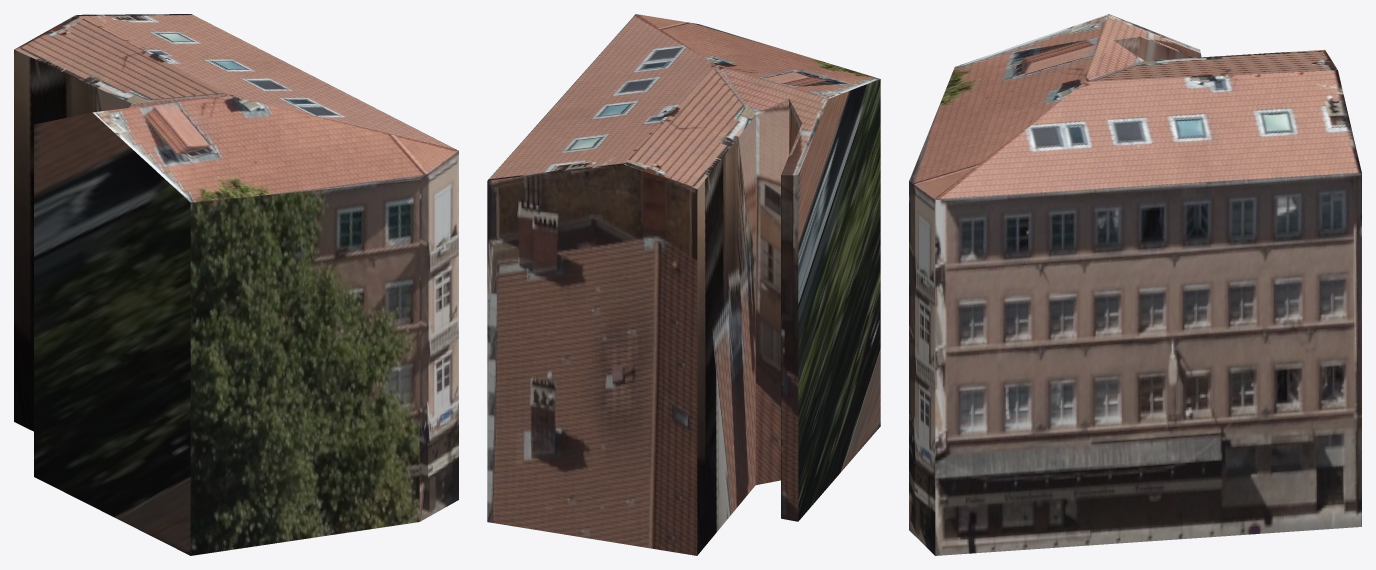
3 renders of one model, left to right at view 1: azimuth 30°, elevation 25°; view 2: azimuth 150°, elevation 25°; view 3: azimuth 270°, elevation 25°, orthographic. The views are drawn at different scales.
Visible parts, largest first — view 1: Z_UP; view 2: Z_UP; view 3: Z_UP.
Boxes of the visible parts, bbox=[...] form: Z_UP: bbox=[14, 14, 458, 555]; Z_UP: bbox=[487, 14, 880, 555]; Z_UP: bbox=[909, 14, 1361, 555].
Bounding box in the file's own units: 16.53 × 21.09 × 21.54.
Materials: 2 (1 with a texture image).
